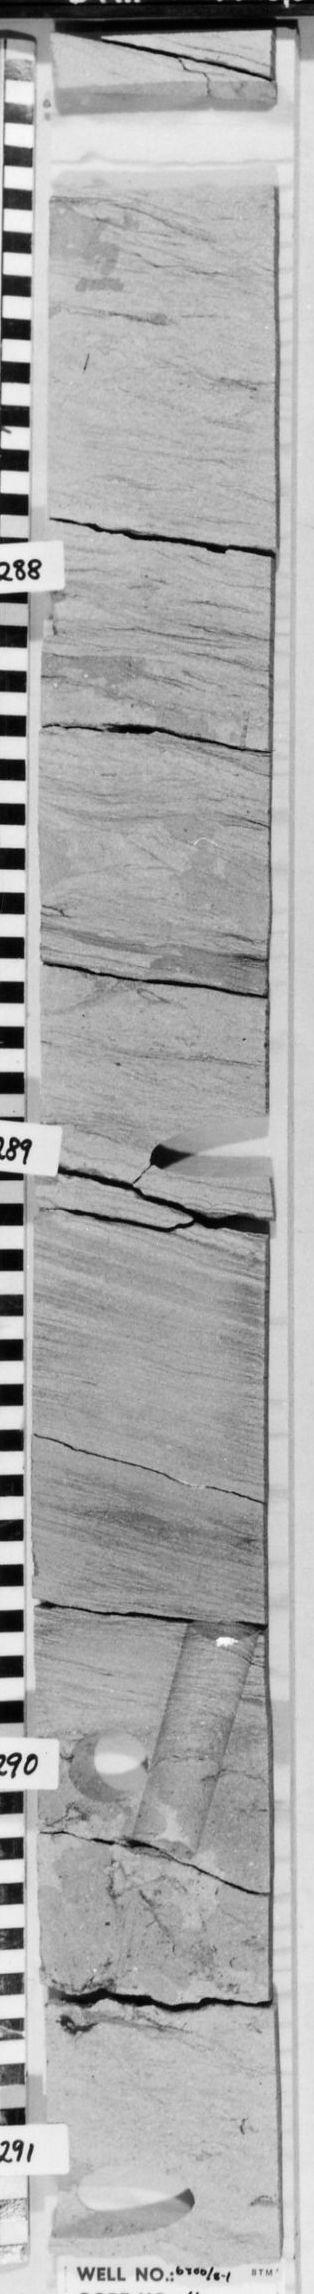hplug: (67, 2162, 206, 2240), (69, 1723, 152, 1808)
scal: (50, 69, 275, 206)
vplug: (129, 1601, 261, 1843)
